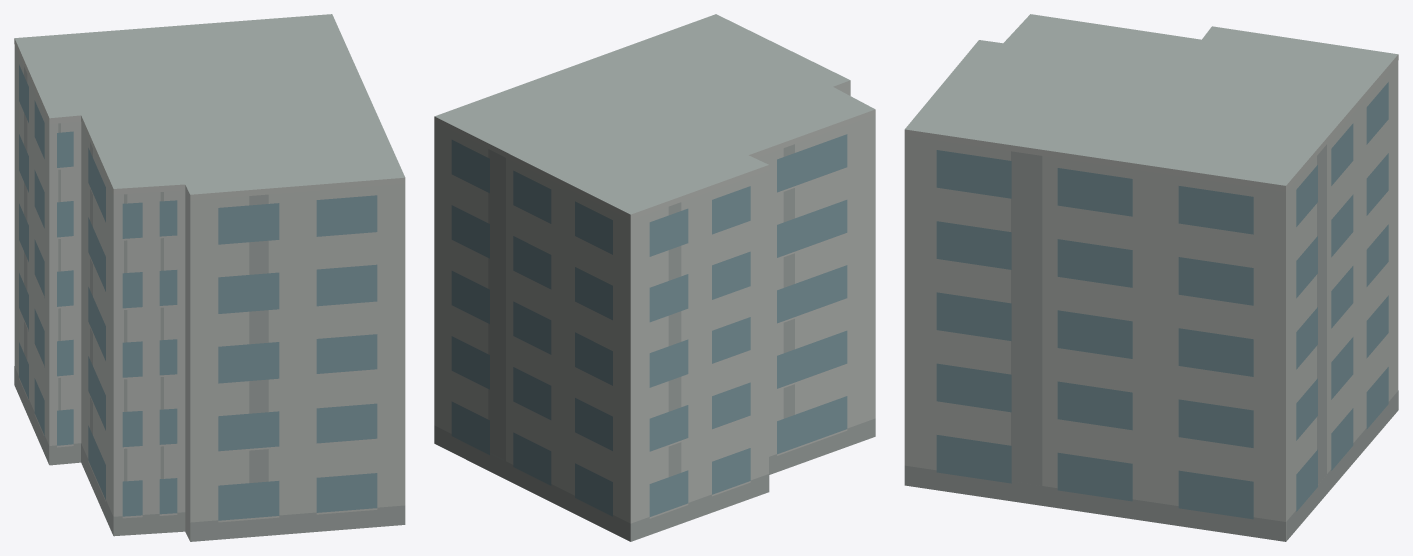
The model's file is survey-upis-32852780.glb.
3 views of the same model, side by side, from view 1: azimuth 30°, elevation 25°; view 2: azimuth 150°, elevation 25°; view 3: azimuth 270°, elevation 25° (orthographic). The views are drawn at different scales.
Visible parts, largest first — view 1: survey-upis-32852780.tmp; view 2: survey-upis-32852780.tmp; view 3: survey-upis-32852780.tmp.
Part boxes in pixels (box(x1,y1,x2,y2)): survey-upis-32852780.tmp: box(14, 14, 405, 541); survey-upis-32852780.tmp: box(434, 14, 875, 541); survey-upis-32852780.tmp: box(904, 14, 1398, 541).
Bounding box in the file's own units: 14.61 × 14.1 × 17.73.
